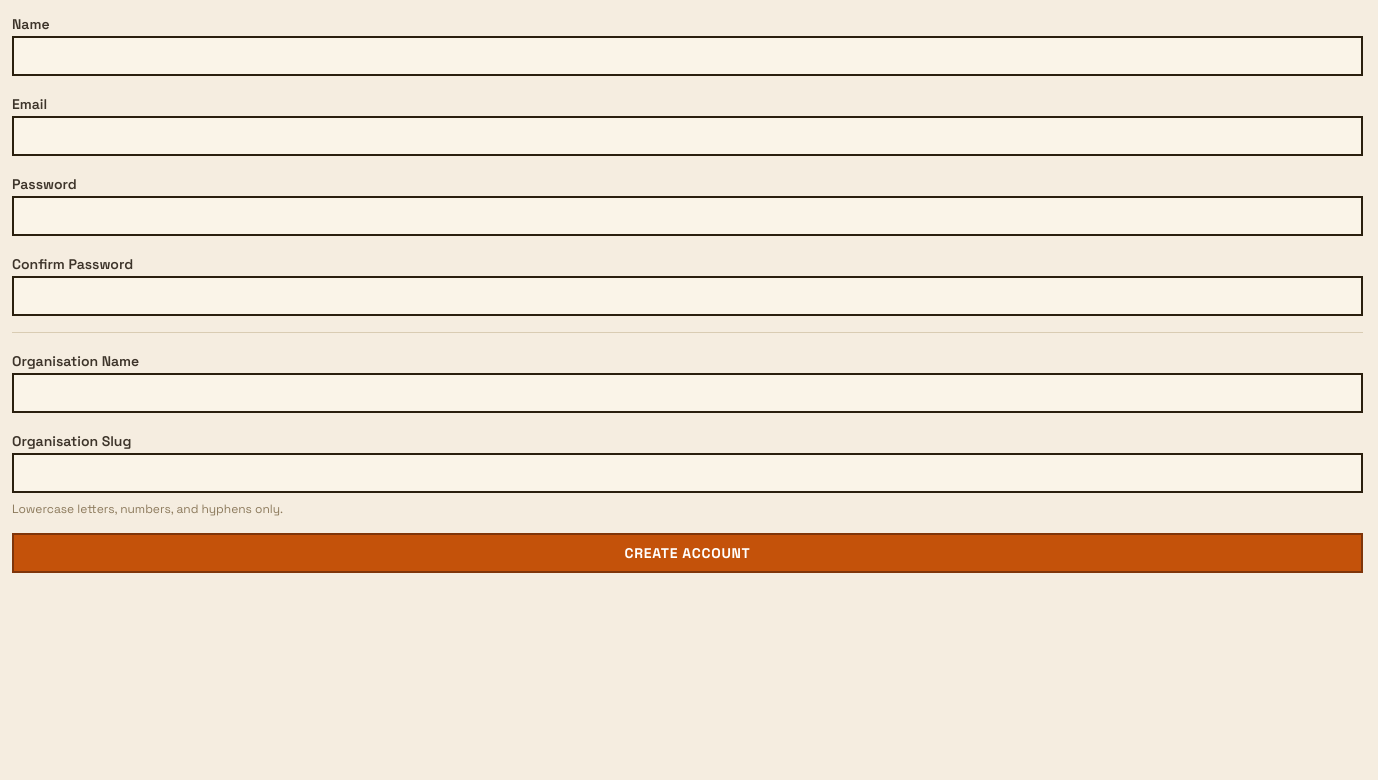
it: SignUpForm › shows error when org creation fails
Type "Test User" into the field with id "name".
click(688, 56); type("Test User")  # box top-left (12, 36), bottom-right (1363, 76)
Type "test@example.com" into the field with id "email".
click(688, 136); type("test@example.com")  # box top-left (12, 116), bottom-right (1363, 156)
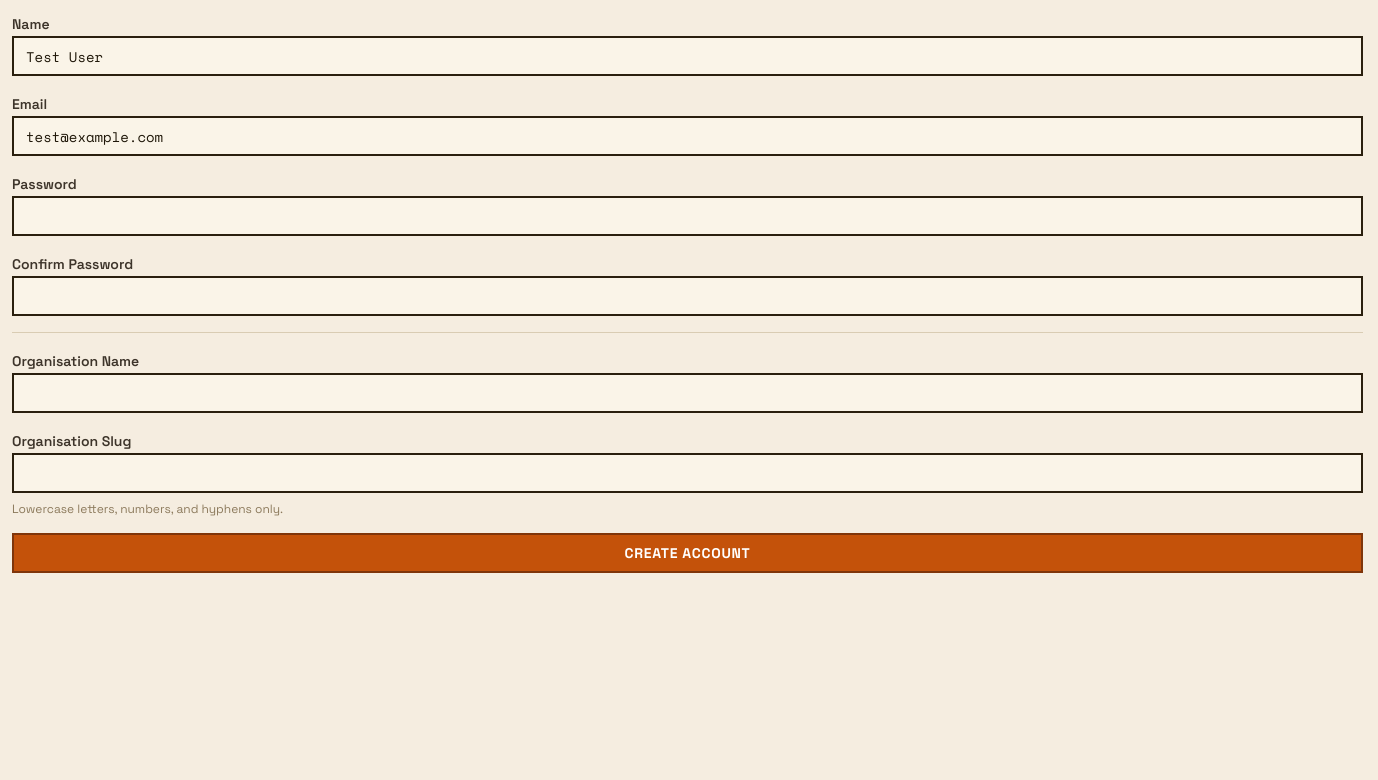
Type "password123" into the password field labelled "Password".
click(688, 216); type("password123")  # box top-left (12, 196), bottom-right (1363, 236)
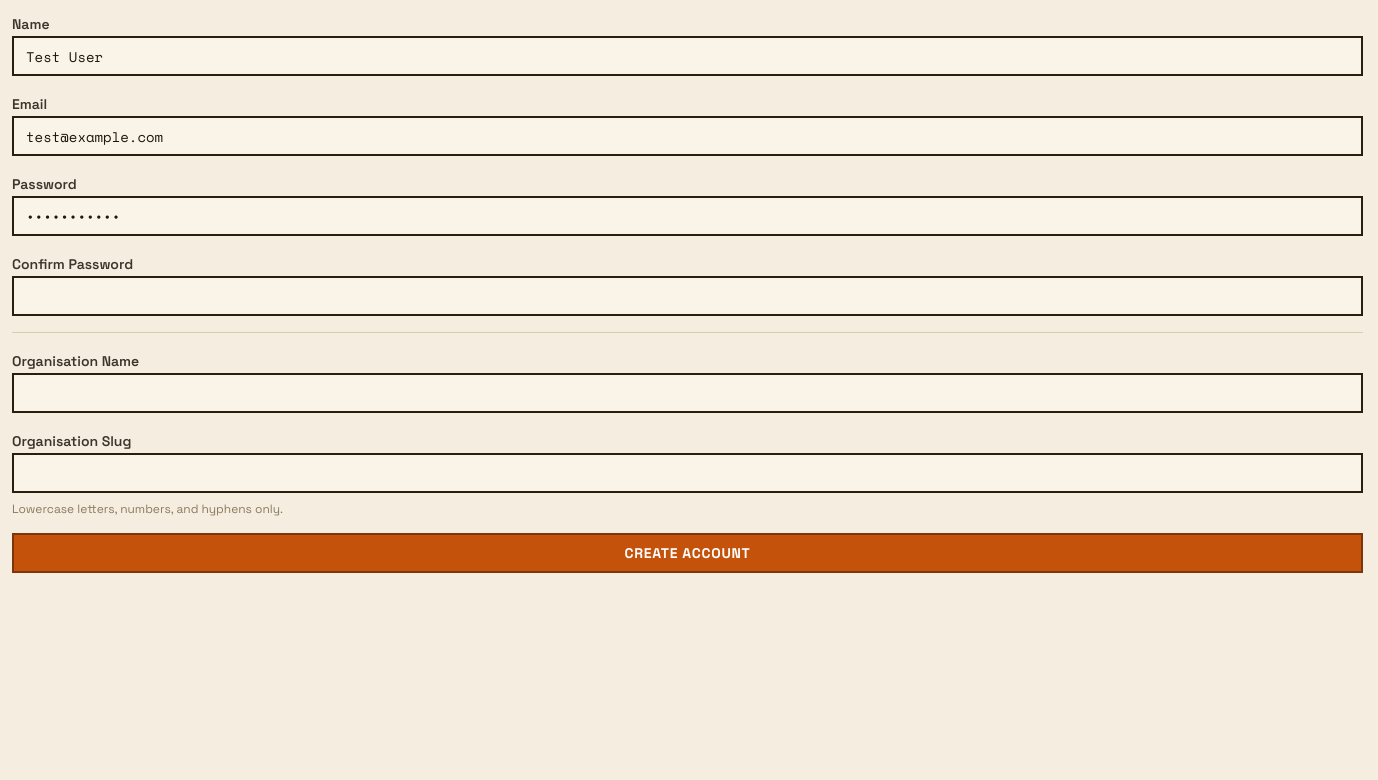
Type "password123" into the password field with id "confirm-password".
click(688, 296); type("password123")  # box top-left (12, 276), bottom-right (1363, 316)
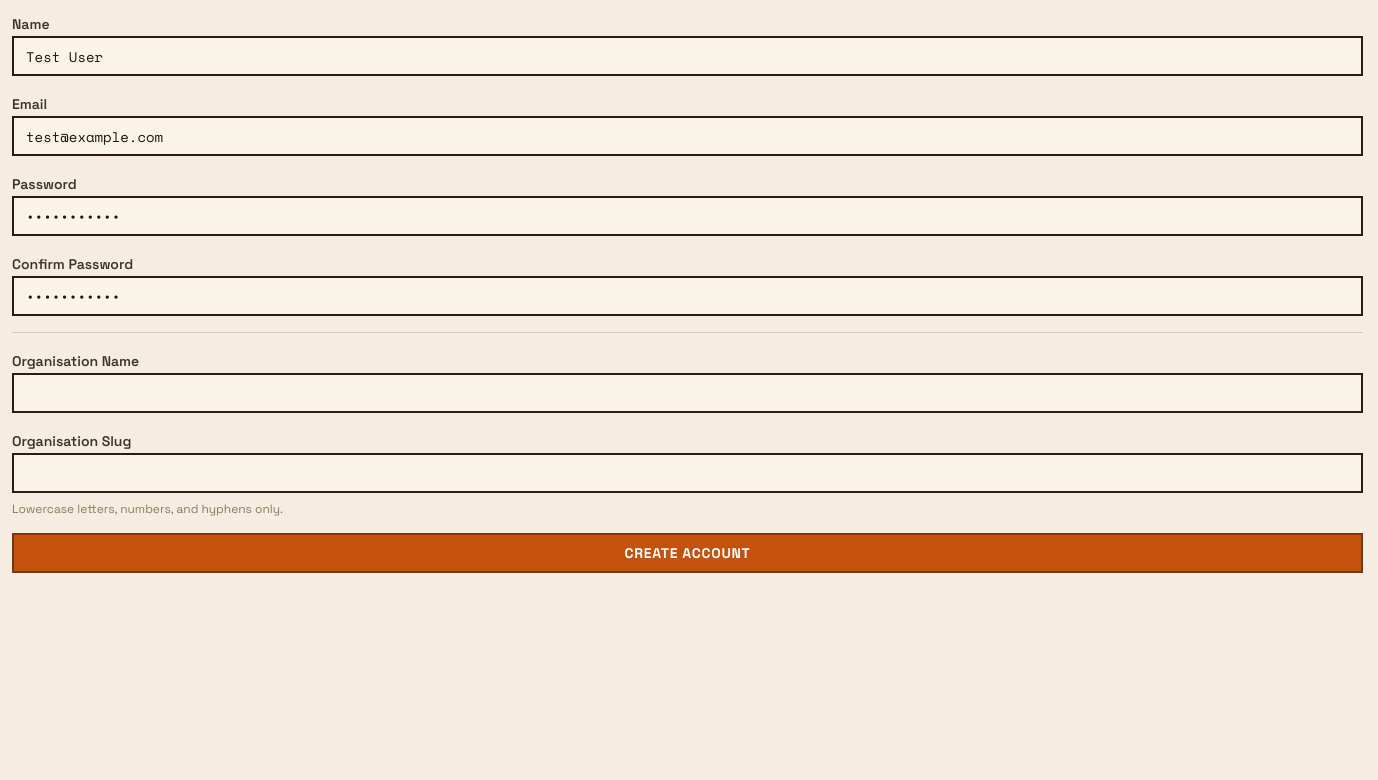
Type "My Org" into the field with id "org-name".
click(688, 393); type("My Org")  # box top-left (12, 373), bottom-right (1363, 413)
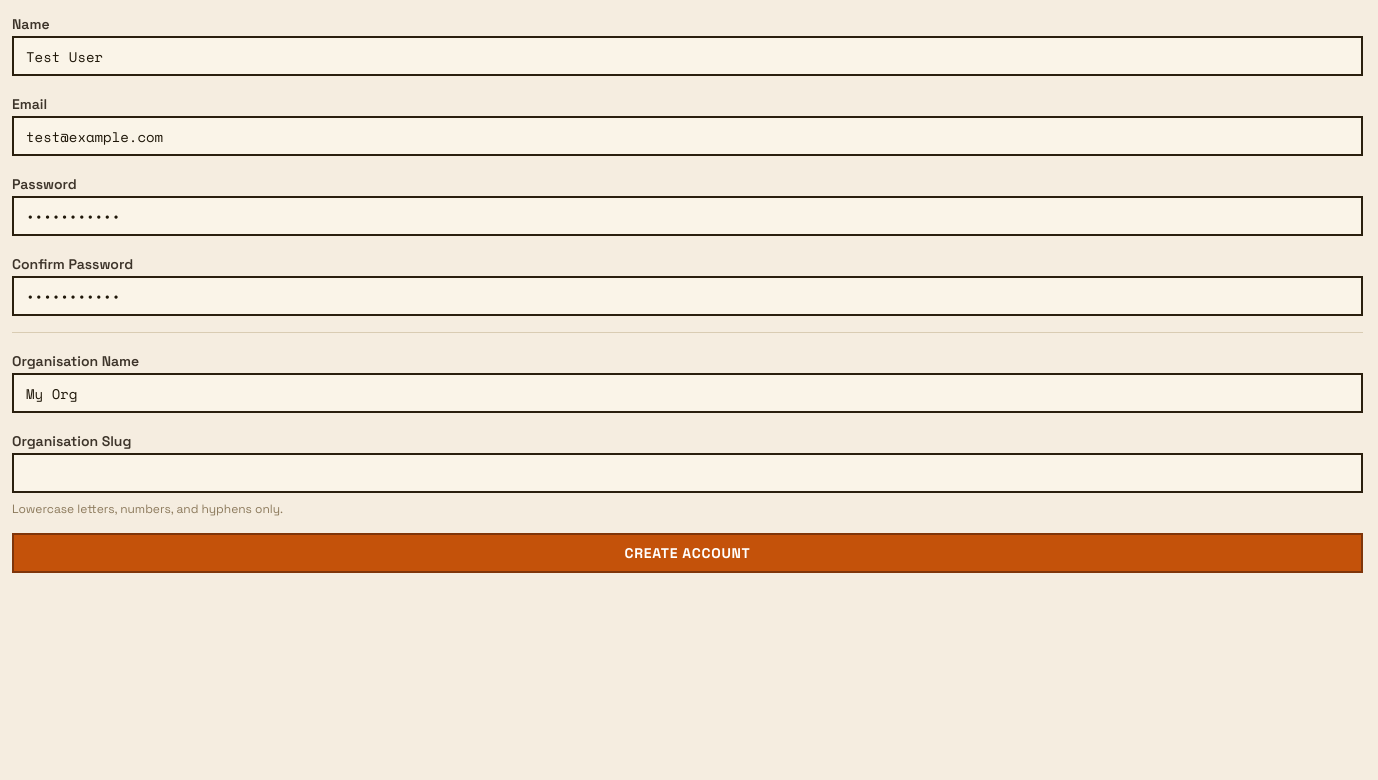
Type "my-org" into the field with id "org-slug".
click(688, 473); type("my-org")  # box top-left (12, 453), bottom-right (1363, 493)
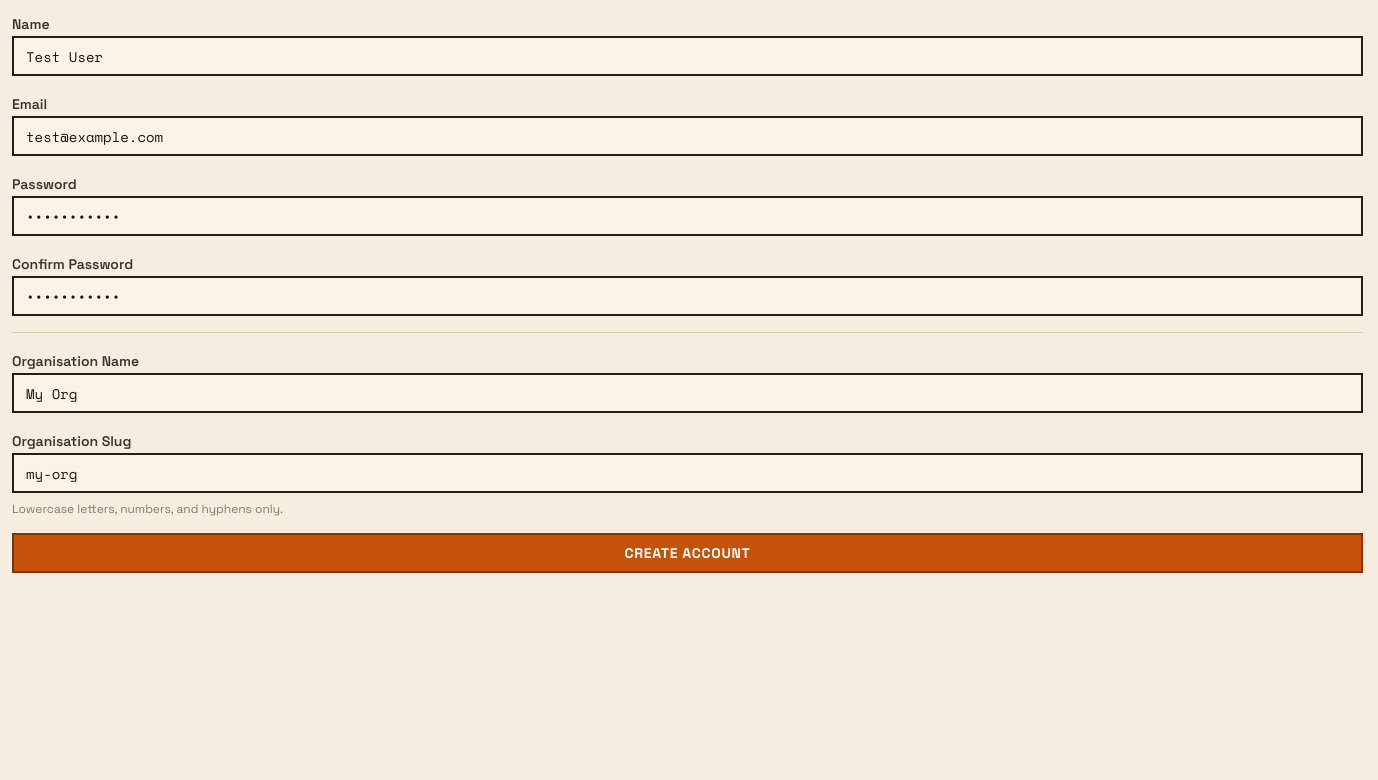
Submit the form
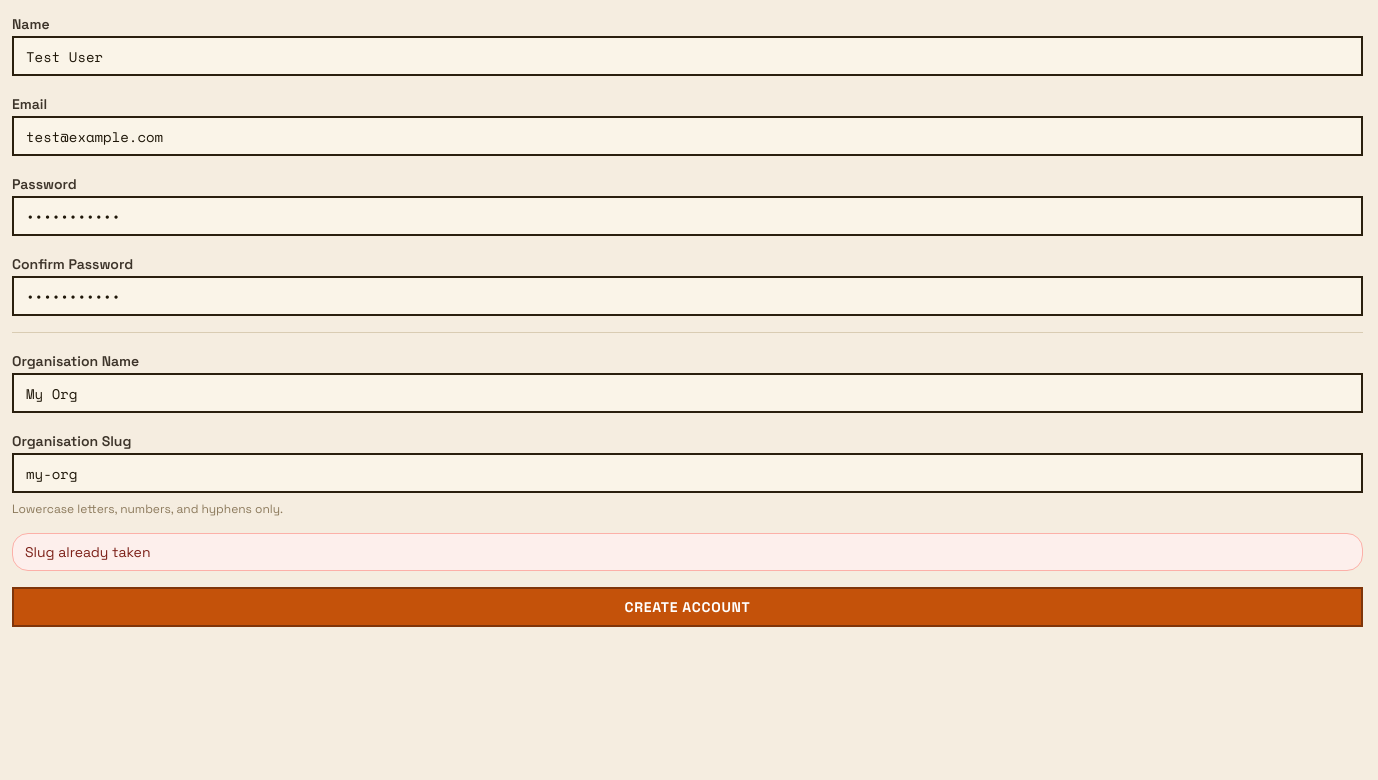
Expected: the text "Slug already taken" is shown, top-left (12, 533), bottom-right (1363, 571)
